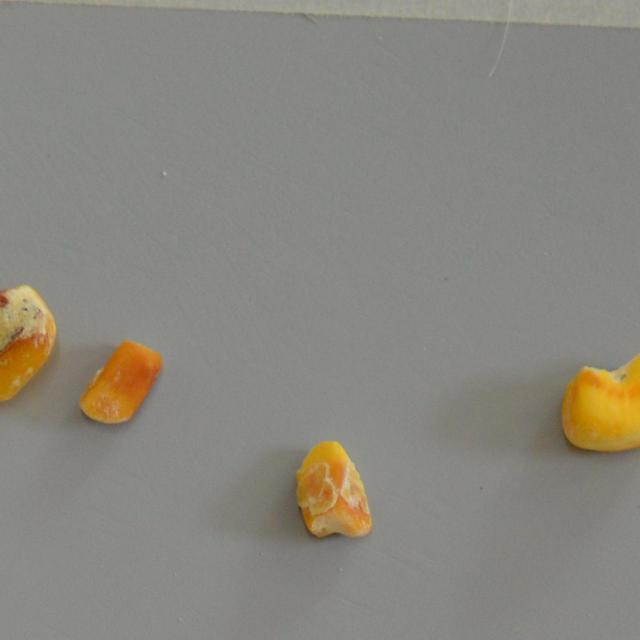dañado: (76, 340, 161, 424), (0, 284, 54, 404)
pelicula: (289, 438, 380, 544)
punto_negro: (560, 351, 640, 453)
